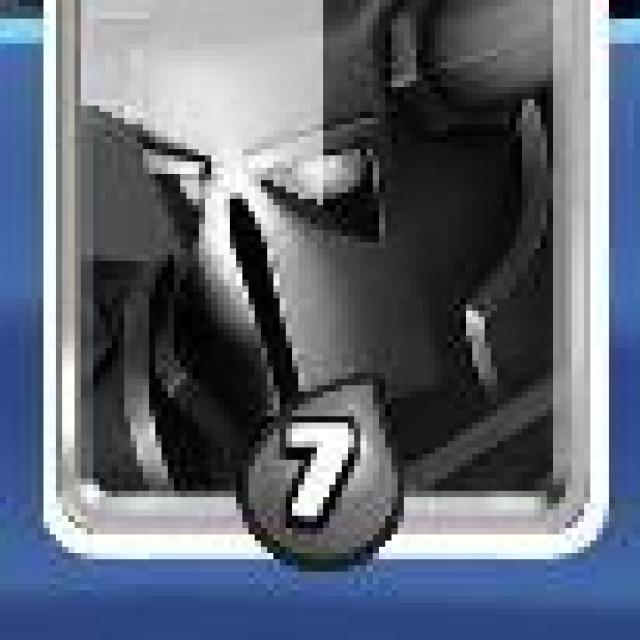Pekka: (41, 0, 613, 559)
